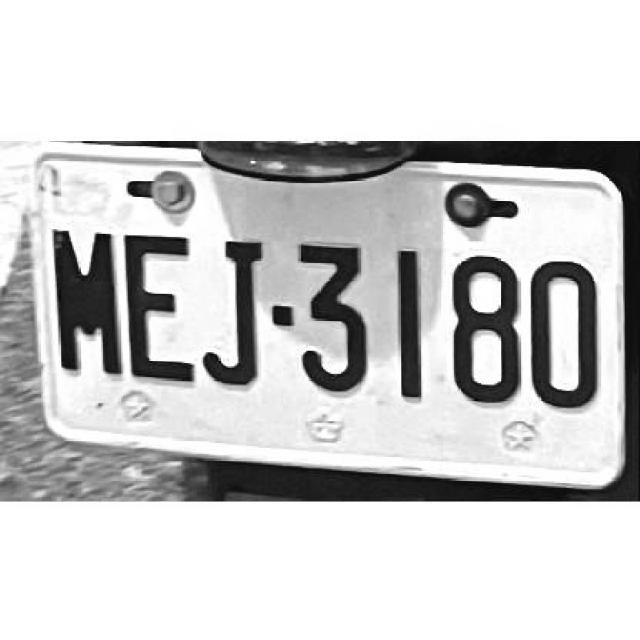-: (274, 304, 294, 324)
0: (526, 252, 599, 411)
1: (392, 246, 426, 394)
3: (294, 234, 369, 394)
8: (446, 249, 520, 405)
E: (121, 230, 196, 382)
J: (198, 232, 270, 385)
M: (49, 229, 122, 377)
